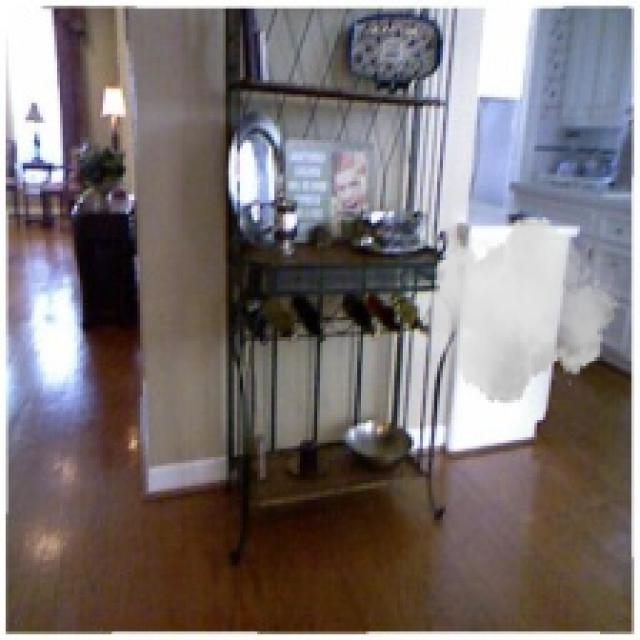smoke: (417, 208, 620, 412)
